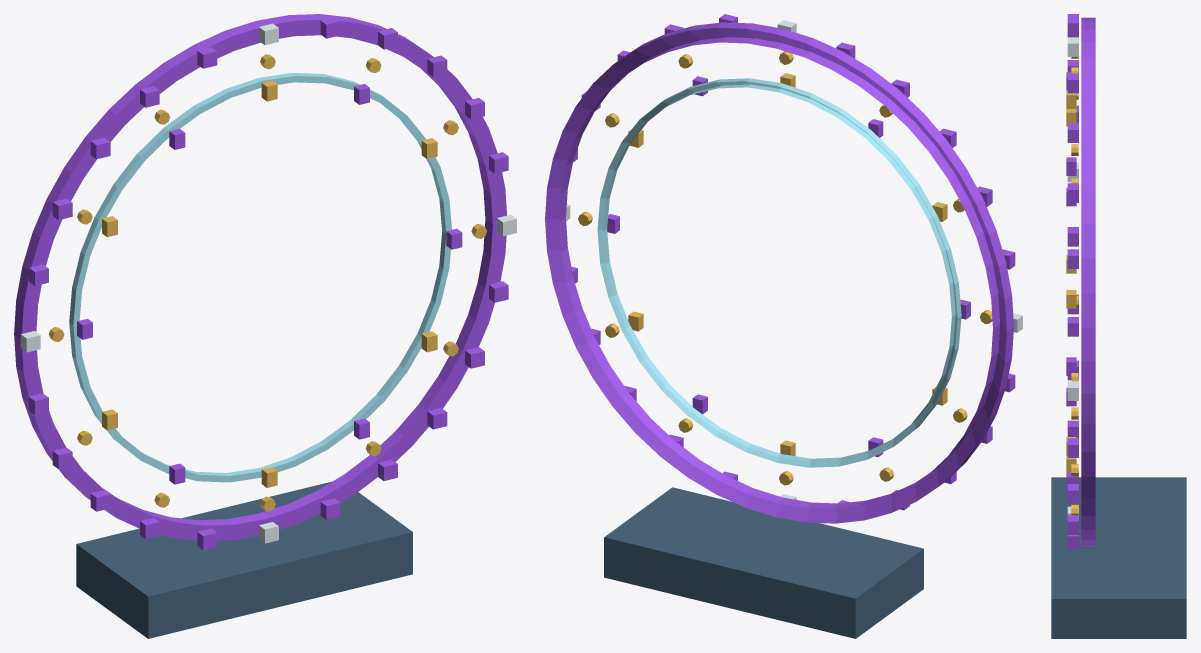
The model's file is 30_L80_MicroringResonatorChannelD.fbx.
3 renders of one model, left to right at view 1: azimuth 30°, elevation 25°; view 2: azimuth 150°, elevation 25°; view 3: azimuth 270°, elevation 25°, orthographic. The views are drawn at different scales.
Parts seen in each view (by area): view 1: MicroringResonatorChannelD_Part_0038, MicroringResonatorChannelD_Part_0000, MicroringResonatorChannelD_Part_0001; view 2: MicroringResonatorChannelD_Part_0000, MicroringResonatorChannelD_Part_0038, MicroringResonatorChannelD_Part_0001; view 3: MicroringResonatorChannelD_Part_0038, MicroringResonatorChannelD_Part_0000, MicroringResonatorChannelD_Part_0007, MicroringResonatorChannelD_Part_0002, MicroringResonatorChannelD_Part_0003, MicroringResonatorChannelD_Part_0004, MicroringResonatorChannelD_Part_0005, MicroringResonatorChannelD_Part_0006, MicroringResonatorChannelD_Part_0008, MicroringResonatorChannelD_Part_0009, MicroringResonatorChannelD_Part_0015, MicroringResonatorChannelD_Part_0023 (+2 smaller).
Boxes of the visible parts, bbox=[...] form: MicroringResonatorChannelD_Part_0038: bbox=[76, 481, 412, 638]; MicroringResonatorChannelD_Part_0000: bbox=[14, 14, 506, 540]; MicroringResonatorChannelD_Part_0001: bbox=[69, 73, 451, 482]; MicroringResonatorChannelD_Part_0000: bbox=[545, 22, 1013, 523]; MicroringResonatorChannelD_Part_0038: bbox=[604, 487, 923, 638]; MicroringResonatorChannelD_Part_0001: bbox=[597, 78, 961, 467]; MicroringResonatorChannelD_Part_0038: bbox=[1051, 477, 1186, 638]; MicroringResonatorChannelD_Part_0000: bbox=[1081, 17, 1095, 545]; MicroringResonatorChannelD_Part_0007: bbox=[1067, 73, 1078, 93]; MicroringResonatorChannelD_Part_0002: bbox=[1067, 381, 1078, 400]; MicroringResonatorChannelD_Part_0003: bbox=[1067, 317, 1078, 336]; MicroringResonatorChannelD_Part_0004: bbox=[1067, 249, 1078, 268]; MicroringResonatorChannelD_Part_0005: bbox=[1067, 183, 1078, 202]; MicroringResonatorChannelD_Part_0006: bbox=[1067, 123, 1078, 142]; MicroringResonatorChannelD_Part_0008: bbox=[1067, 37, 1078, 56]; MicroringResonatorChannelD_Part_0009: bbox=[1067, 17, 1078, 36]; MicroringResonatorChannelD_Part_0015: bbox=[1067, 227, 1078, 246]; MicroringResonatorChannelD_Part_0023: bbox=[1067, 515, 1078, 534].
Size of the model in its own units: 157 by 175 by 40.
